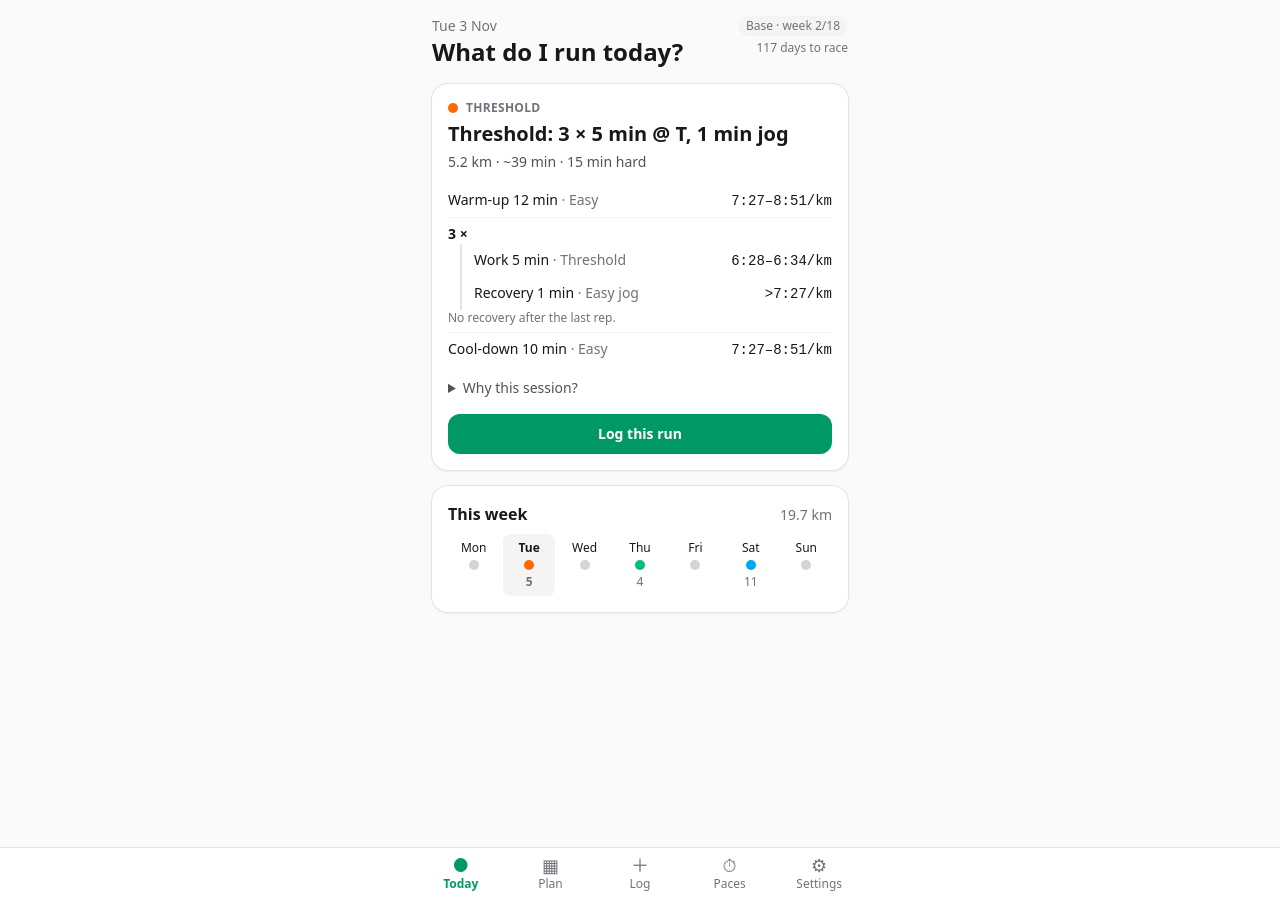
Scenario: logging a run › logs the planned session and marks it done
This screenshot has width=1280, height=900.
Click the button "Log this run": (640, 434) [448,414,832,454]
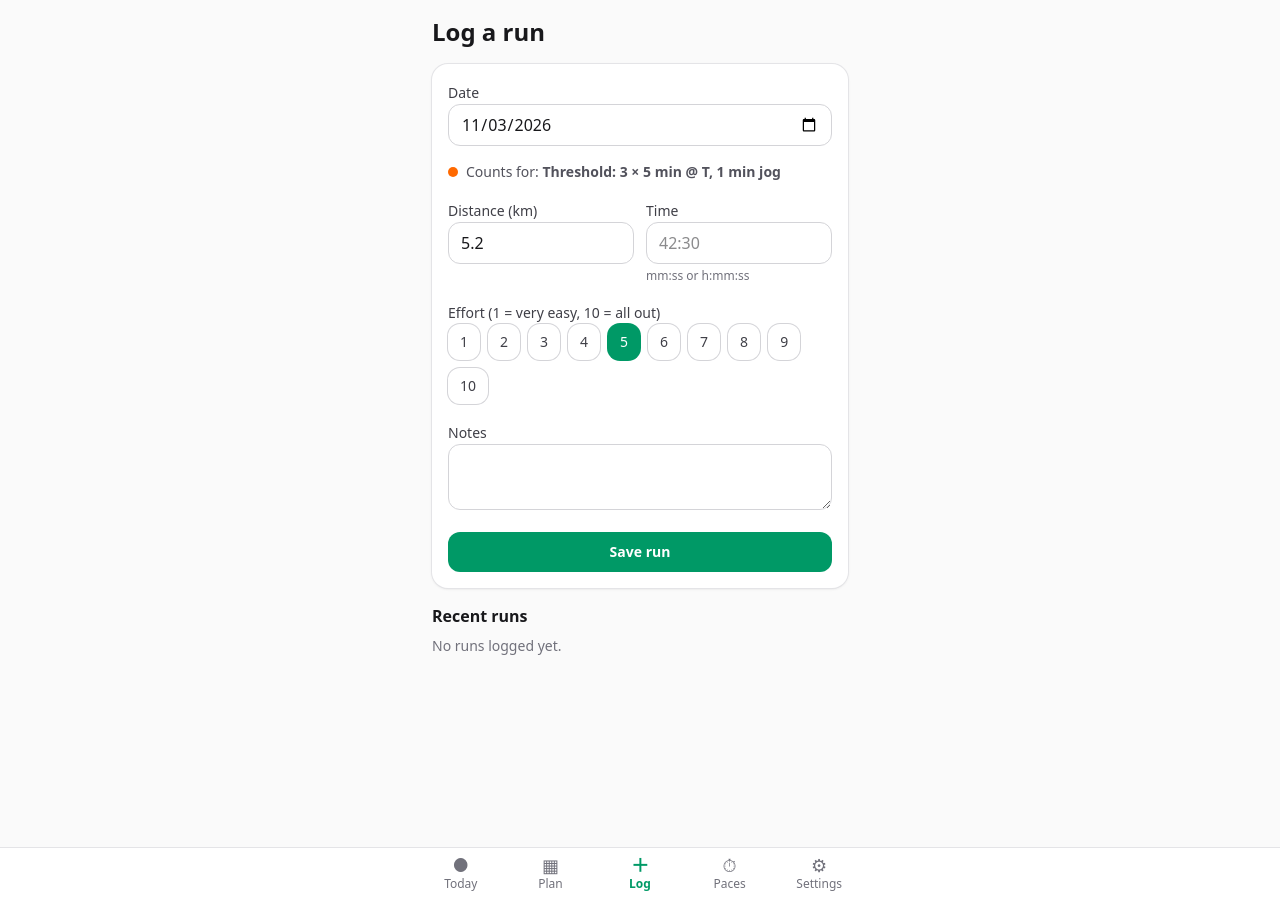
Check: the heading "Log a run" is shown, box [432,15,545,48]
Check: the text "Counts for: Threshold: 3 × 5 min @ T, 1 min jog" is shown, box [466,162,781,182]
Check: the field labelled "Distance (km)" is not empty, box [448,222,634,264]
In the field labelled "Time mm:ss or h:mm:ss": (739, 243) [646,222,832,264], type "40:00"
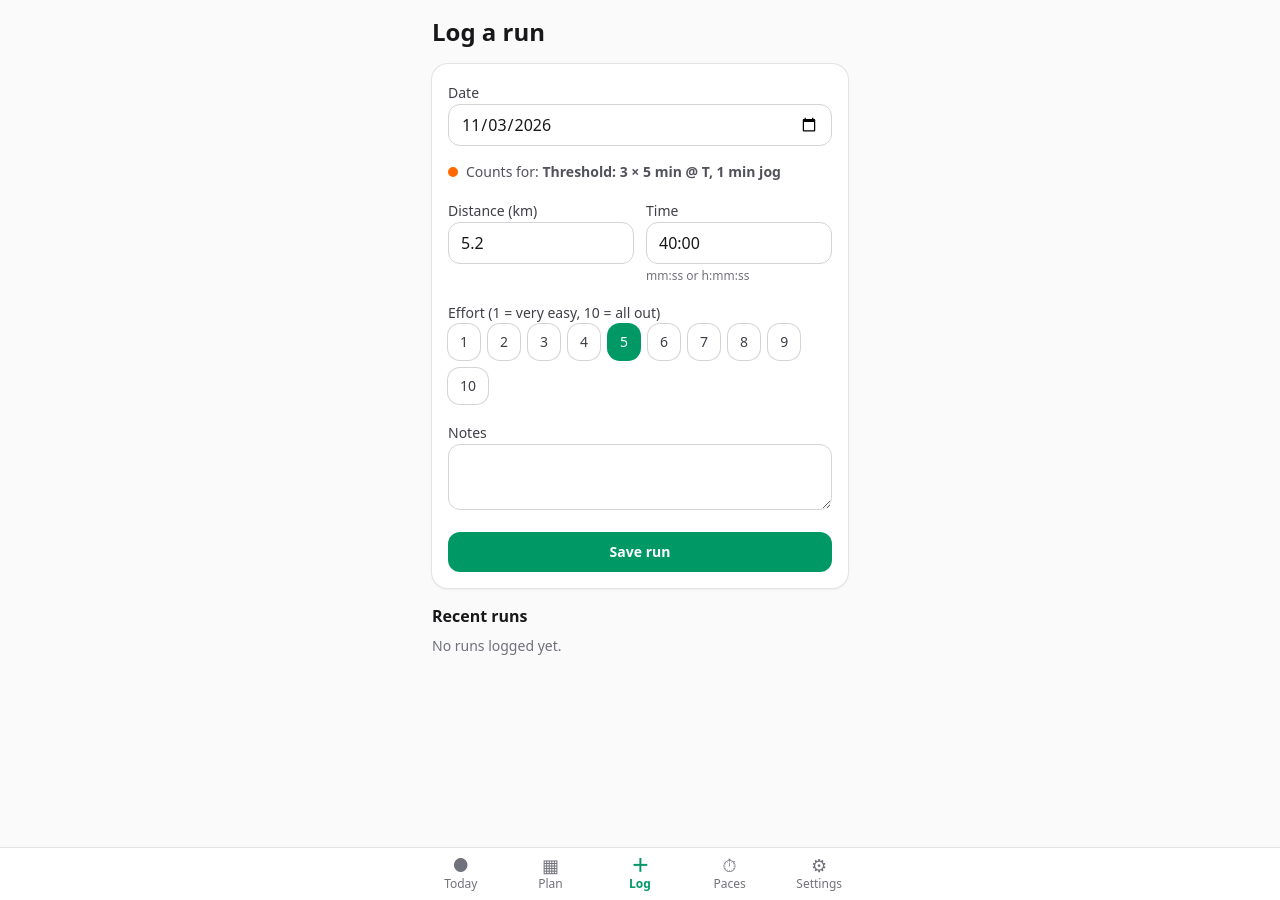
Click the radio button labelled "7": (704, 342) [688,324,720,360]
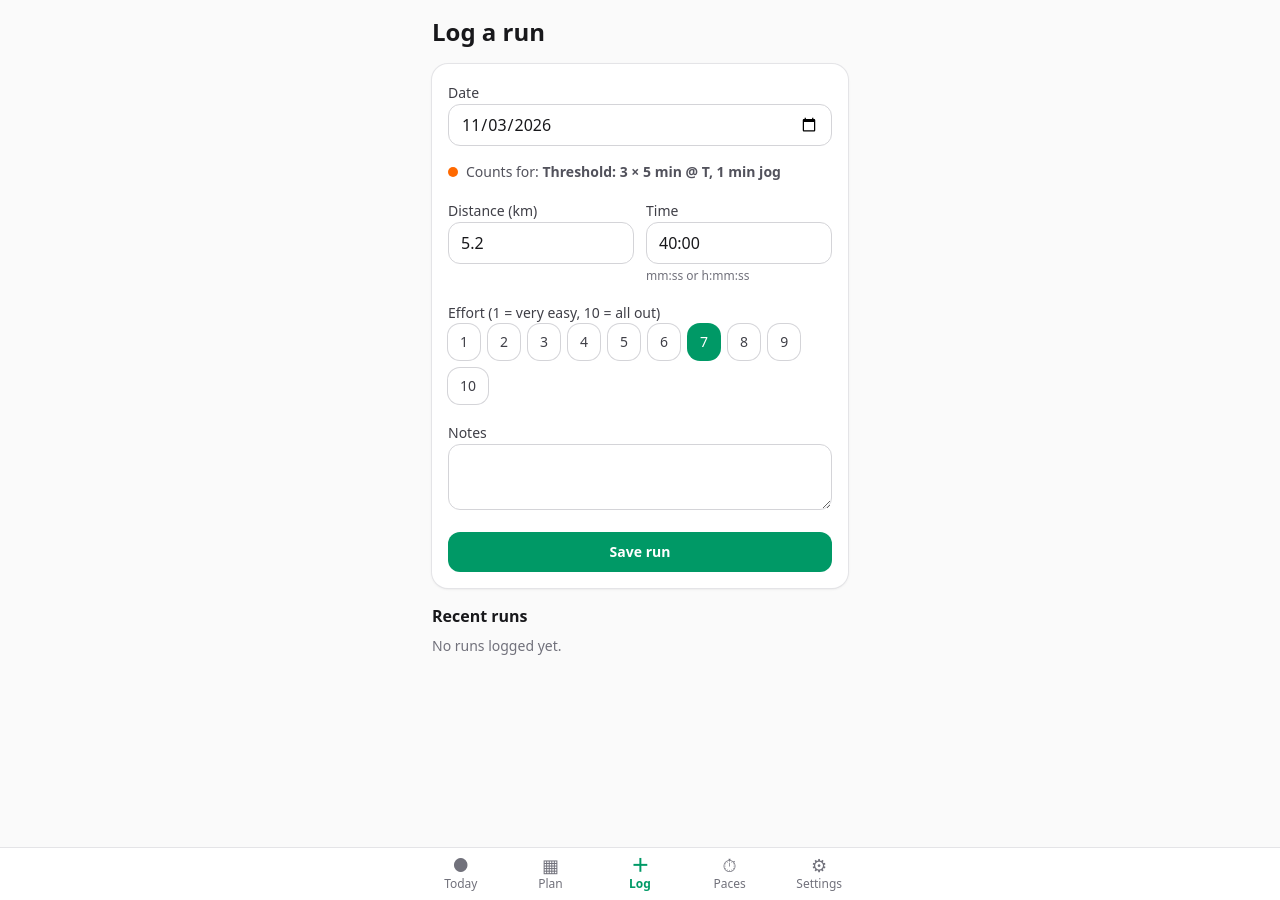
Click the button "Save run": (640, 552) [448,532,832,572]
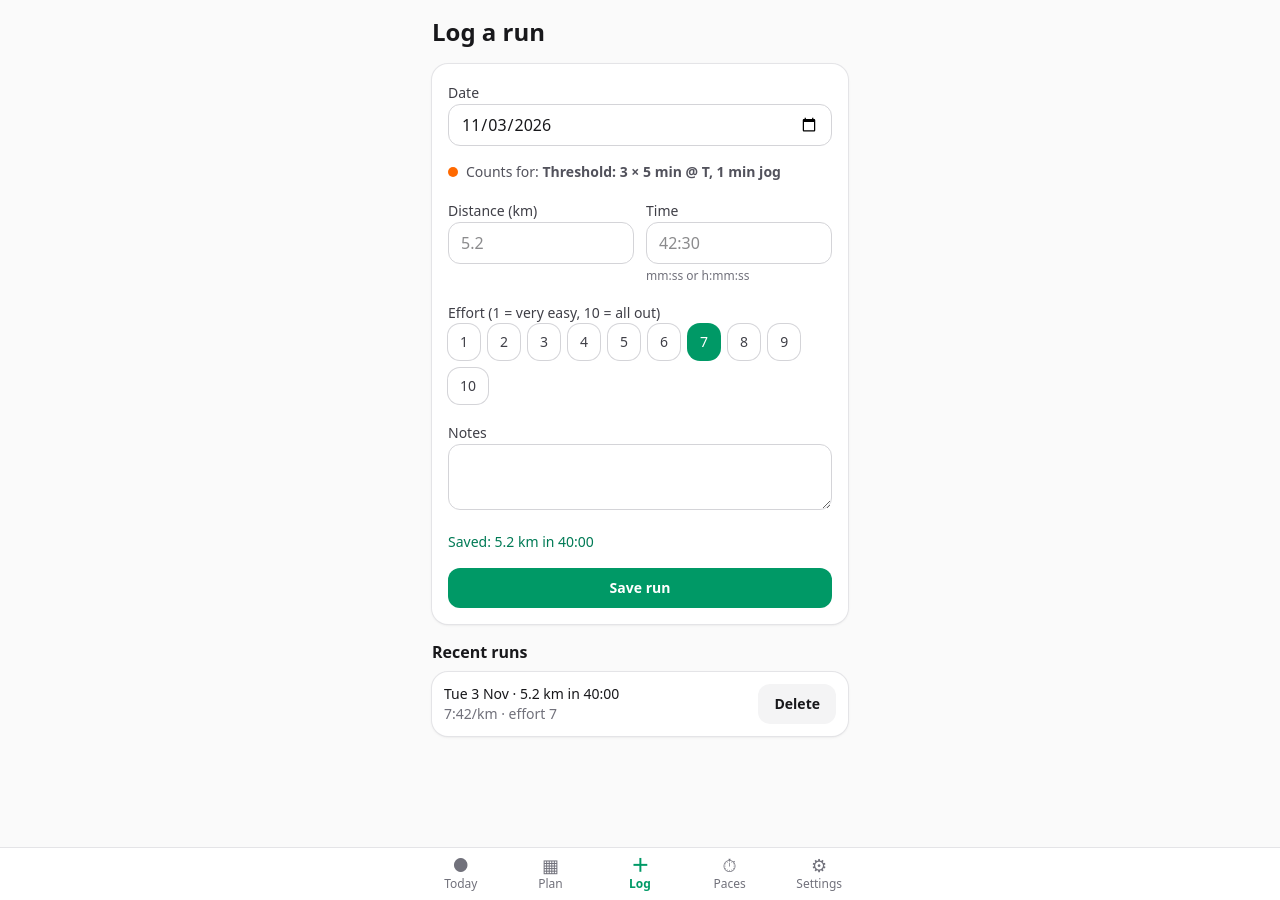
Check: the message shows "Saved", box [448,532,594,551]
Click the button "● Today": (461, 874) [416,848,506,899]
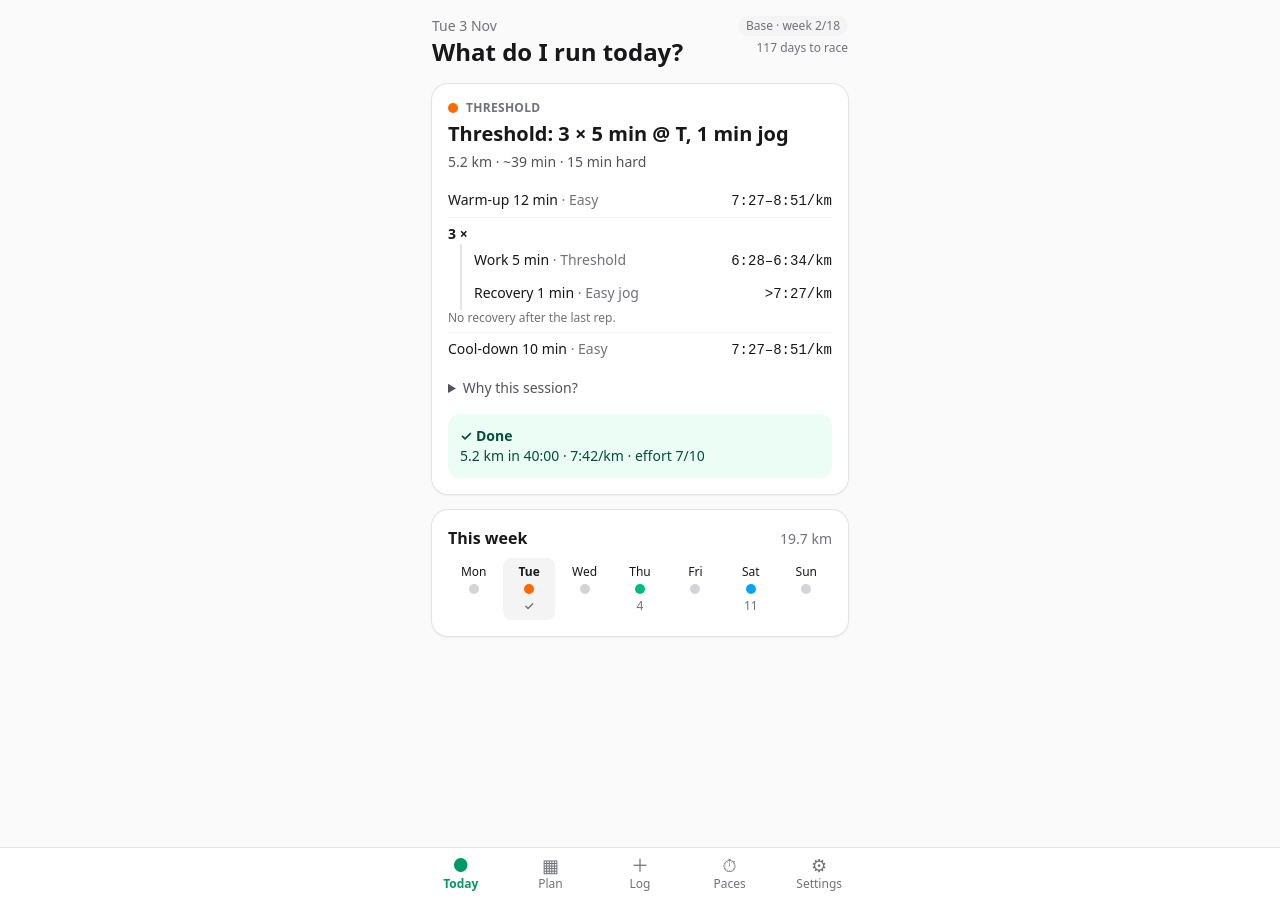
Check: the text "✓ Done" is shown, box [460,426,512,445]
